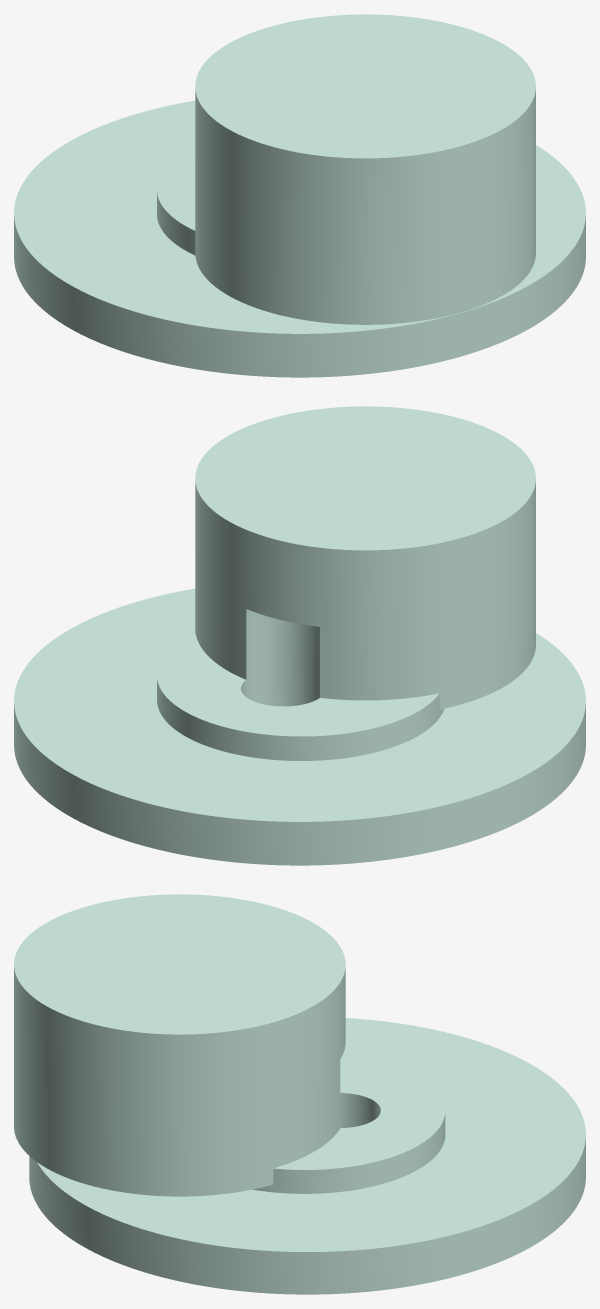
3 renders of one model, top to bottom at view 1: azimuth 30°, elevation 25°; view 2: azimuth 150°, elevation 25°; view 3: azimuth 270°, elevation 25°, orthographic. The views are drawn at different scales.
Parts seen in each view (by area): view 1: Renderer Node; view 2: Renderer Node; view 3: Renderer Node.
Boxes of the visible parts, x1,y1,x2,y2 form: Renderer Node: (14,14,585,377); Renderer Node: (14,406,585,865); Renderer Node: (14,894,585,1294).
Bounding box in the file's own units: 1.48 × 0.625 × 1.52.
